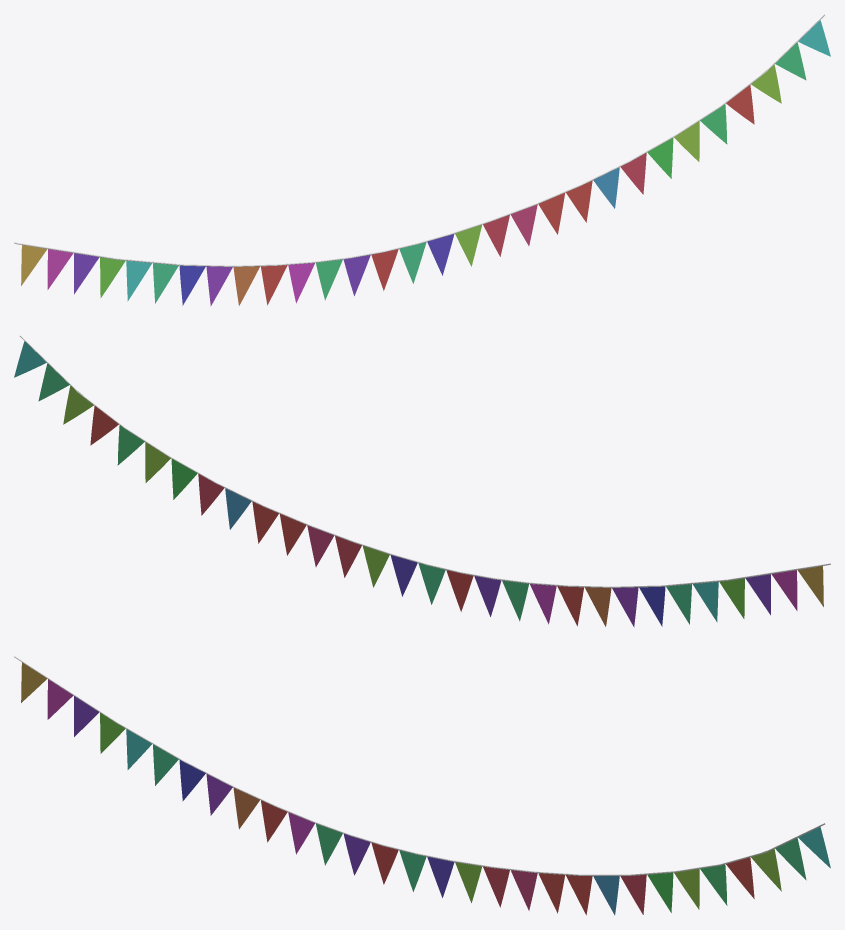
File: Generall_Flags_2.fbx
The picture shows the model from 3 angles, top to bottom: view 1: azimuth 30°, elevation 25°; view 2: azimuth 150°, elevation 25°; view 3: azimuth 330°, elevation 25°; orthographic projection.
Parts seen in each view (by area): view 1: Plane.482; view 2: Plane.482; view 3: Plane.482.
Part boxes in pixels (x1,y1,x2,y2): Plane.482: (14, 14, 830, 306); Plane.482: (14, 335, 830, 627); Plane.482: (14, 656, 830, 915).
Size of the model in its own units: 1758 by 349 by 2.71.
